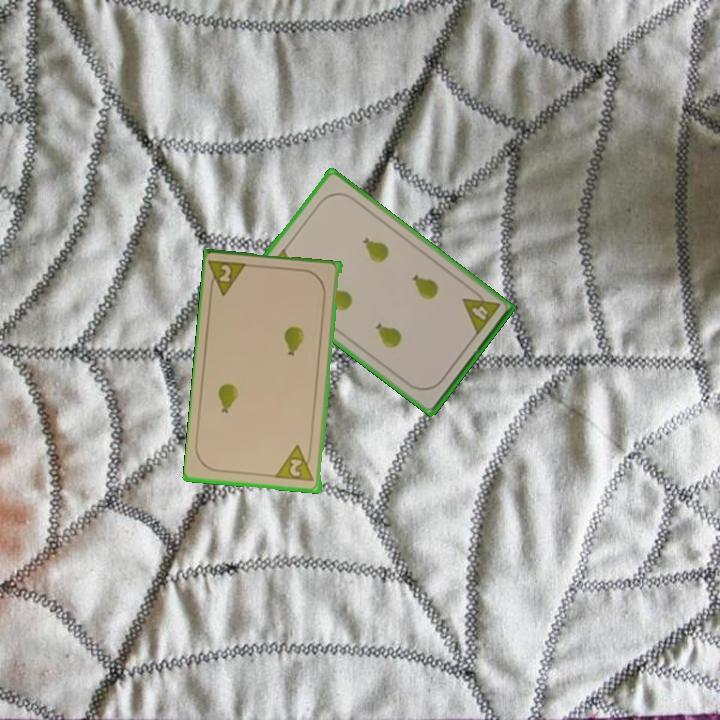2p: (206, 257, 252, 299), (274, 442, 317, 485)
4p: (459, 285, 503, 338)
